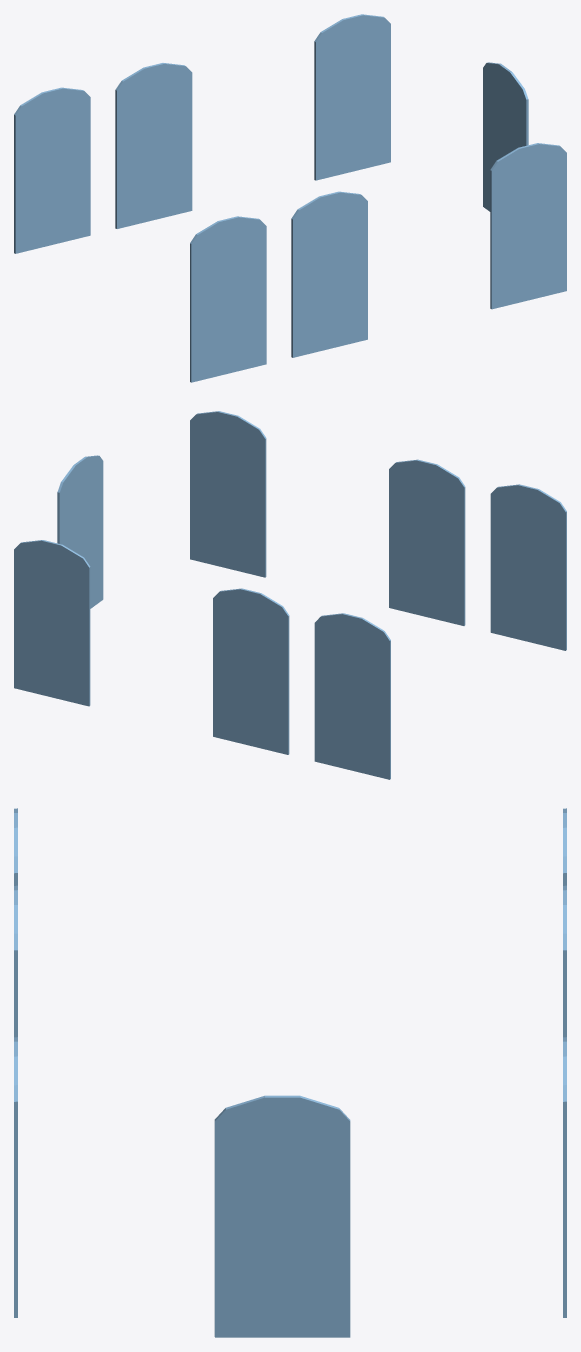
The model's file is SteamLocomotive_type2_GLASS.fbx.
3 renders of one model, top to bottom at view 1: azimuth 30°, elevation 25°; view 2: azimuth 150°, elevation 25°; view 3: azimuth 270°, elevation 25°, orthographic. The views are drawn at different scales.
Parts seen in each view (by area): view 1: SteamLocomotive_type2_GLASS; view 2: SteamLocomotive_type2_GLASS; view 3: SteamLocomotive_type2_GLASS.
Boxes of the visible parts, left/top/right/bottom form: SteamLocomotive_type2_GLASS: left=14, top=14, right=566, bottom=382; SteamLocomotive_type2_GLASS: left=14, top=411, right=566, bottom=779; SteamLocomotive_type2_GLASS: left=14, top=808, right=566, bottom=1337.
Size of the model in its own units: 2.01 by 0.7353 by 1.53.
